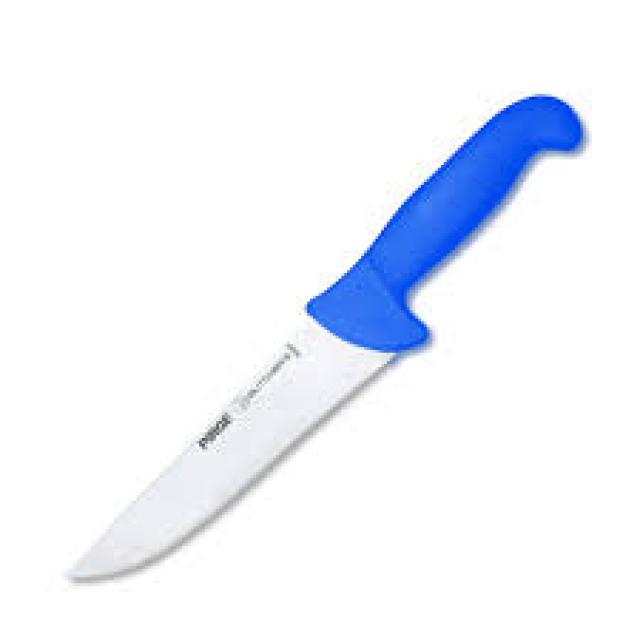Knife: (68, 94, 577, 583)
